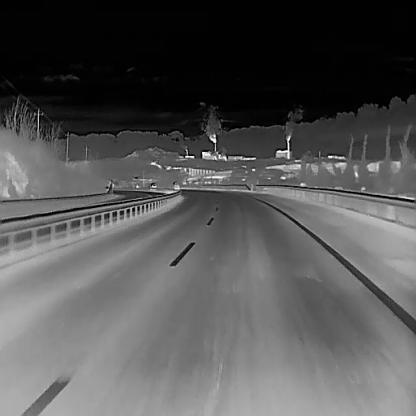car: (171, 180, 180, 190), (148, 181, 157, 190), (133, 183, 139, 189)
